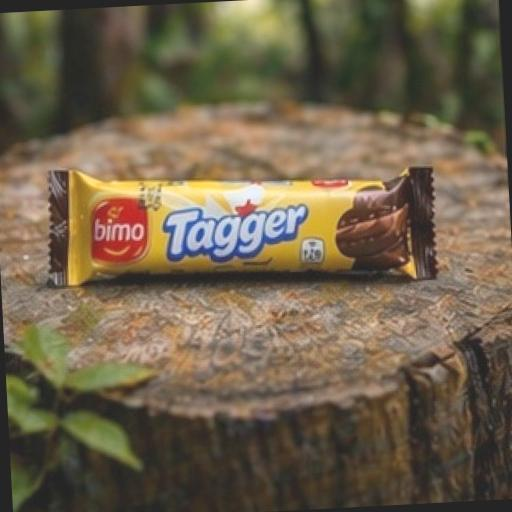tagger: (22, 101, 495, 354)
